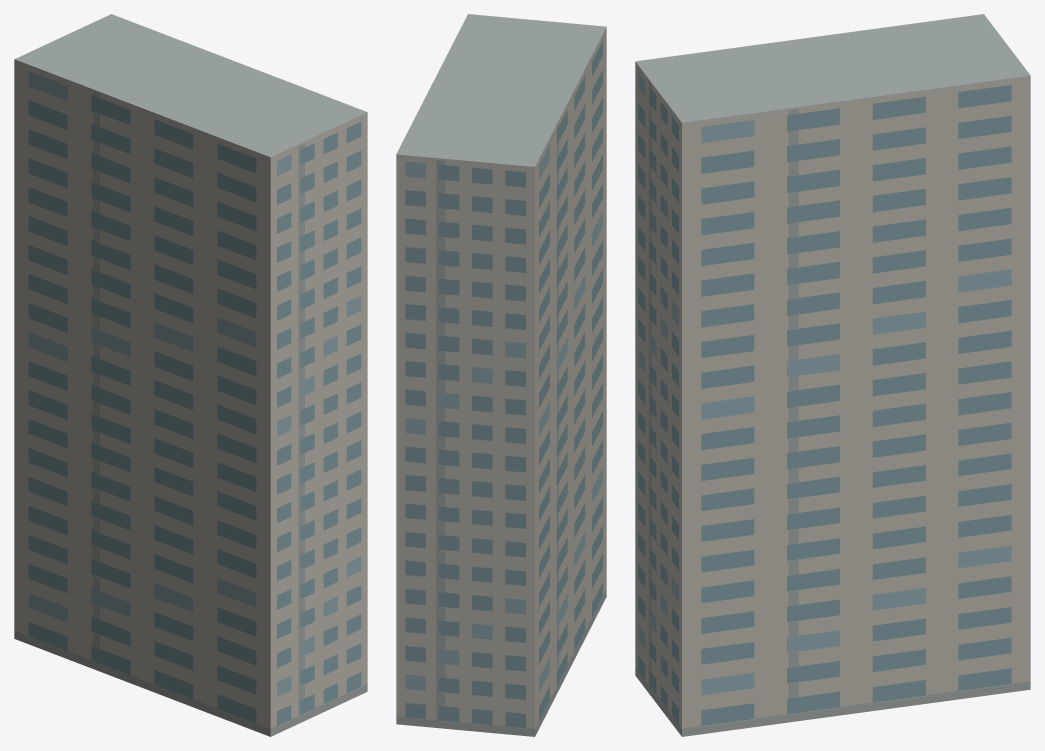
File: residential-b911bd8a-13fb-4ec5-b926-af86b79a0d68.glb
The picture shows the model from 3 angles, left to right: view 1: azimuth 30°, elevation 25°; view 2: azimuth 150°, elevation 25°; view 3: azimuth 270°, elevation 25°; orthographic projection. The views are drawn at different scales.
Visible parts, largest first — view 1: residential-b911bd8a-13fb-4ec5-b926-af86b79a0d68.tmp; view 2: residential-b911bd8a-13fb-4ec5-b926-af86b79a0d68.tmp; view 3: residential-b911bd8a-13fb-4ec5-b926-af86b79a0d68.tmp.
Part boxes in pixels (x1,y1,x2,y2): residential-b911bd8a-13fb-4ec5-b926-af86b79a0d68.tmp: [14, 14, 367, 736]; residential-b911bd8a-13fb-4ec5-b926-af86b79a0d68.tmp: [396, 14, 606, 736]; residential-b911bd8a-13fb-4ec5-b926-af86b79a0d68.tmp: [635, 14, 1030, 736].
Bounding box in the file's own units: 29.67 × 78 × 45.53.
